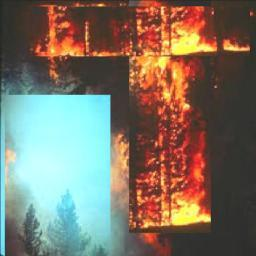Large fire: (127, 58, 210, 236), (32, 0, 252, 55)
Low smoke: (7, 109, 112, 251)
